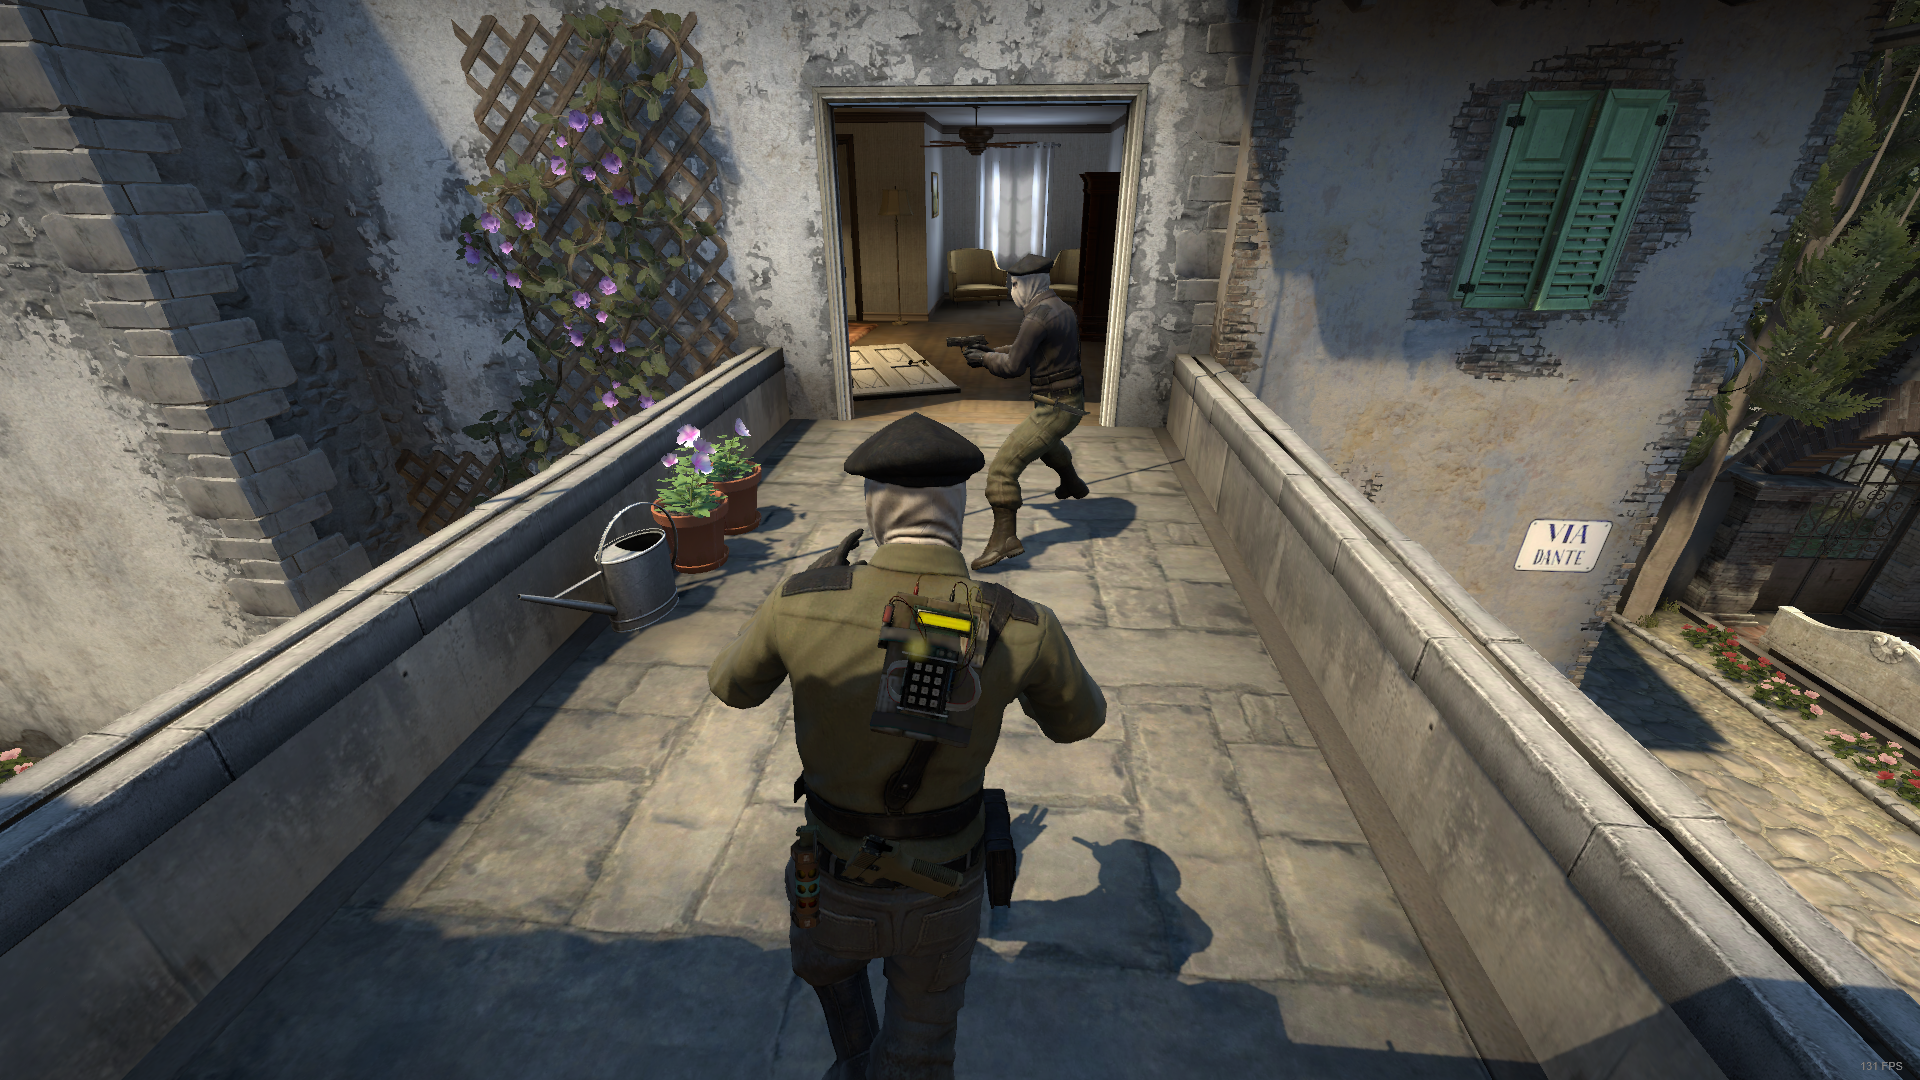t: (709, 413, 1106, 1080), (961, 253, 1093, 568)
